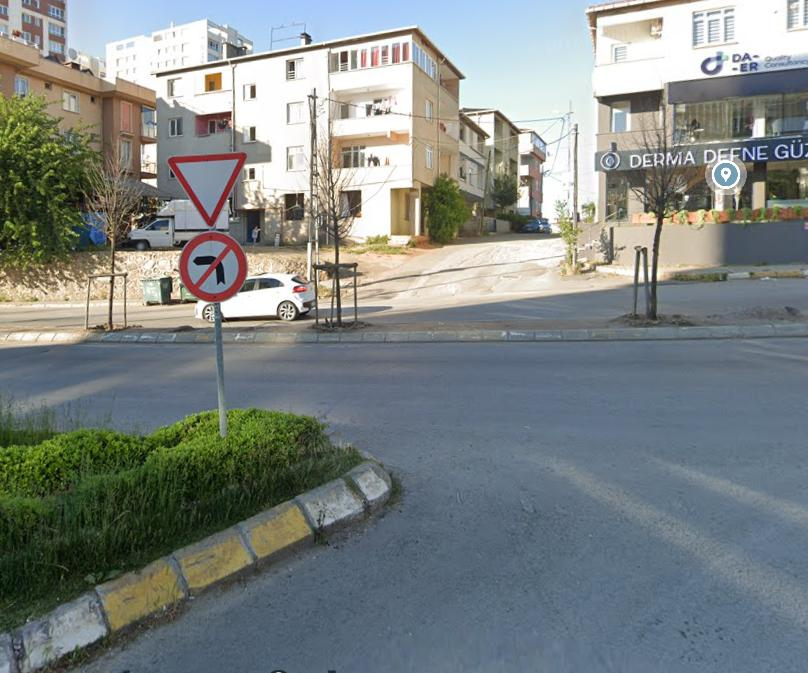rightturnsareforbidden: (180, 233, 248, 299)
